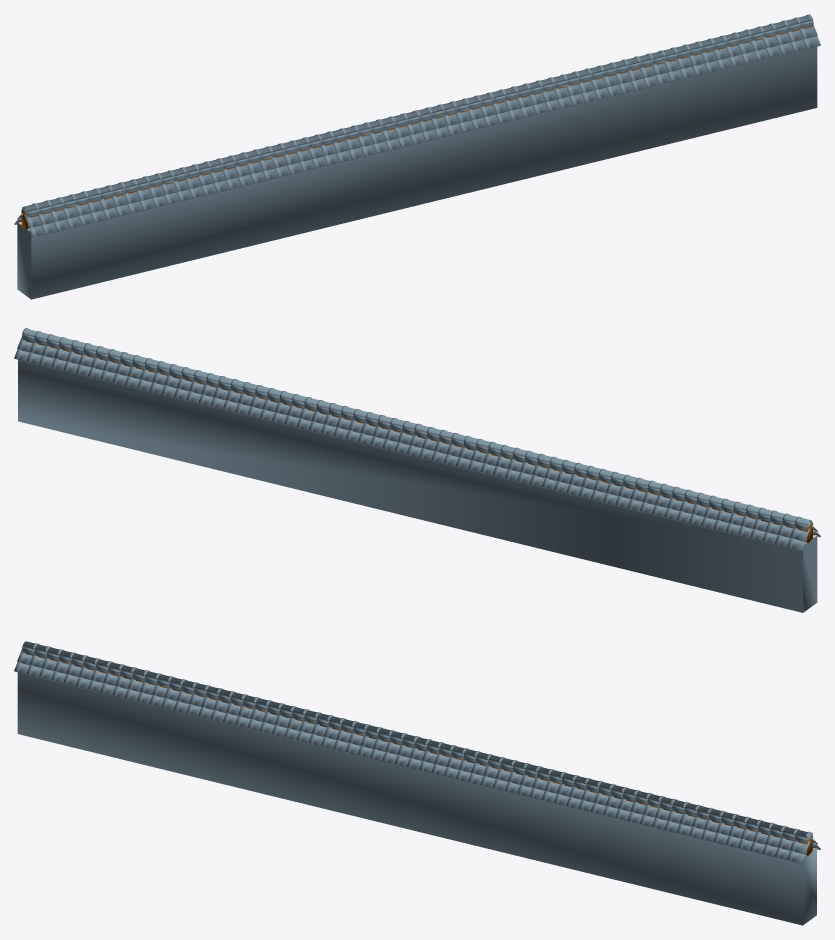
Rendered from wall 2.fbx.
3 renders of one model, top to bottom at view 1: azimuth 30°, elevation 25°; view 2: azimuth 150°, elevation 25°; view 3: azimuth 330°, elevation 25°, orthographic.
Visible parts, largest first — view 1: wall_white.003, kawara.002, wall_nakami.002; view 2: wall_white.003, kawara.002, wall_nakami.002; view 3: wall_white.003, kawara.002, wall_nakami.002.
Boxes of the visible parts, x1,y1,x2,y2 form: wall_white.003: (17, 46, 817, 299); kawara.002: (14, 14, 820, 237); wall_nakami.002: (21, 26, 812, 229); wall_white.003: (18, 360, 817, 612); kawara.002: (14, 328, 820, 551); wall_nakami.002: (25, 340, 812, 543); wall_white.003: (17, 673, 816, 925); kawara.002: (14, 641, 820, 863); wall_nakami.002: (44, 657, 812, 855).
Bounding box in the file's own units: 2280 × 243 × 98.03.
